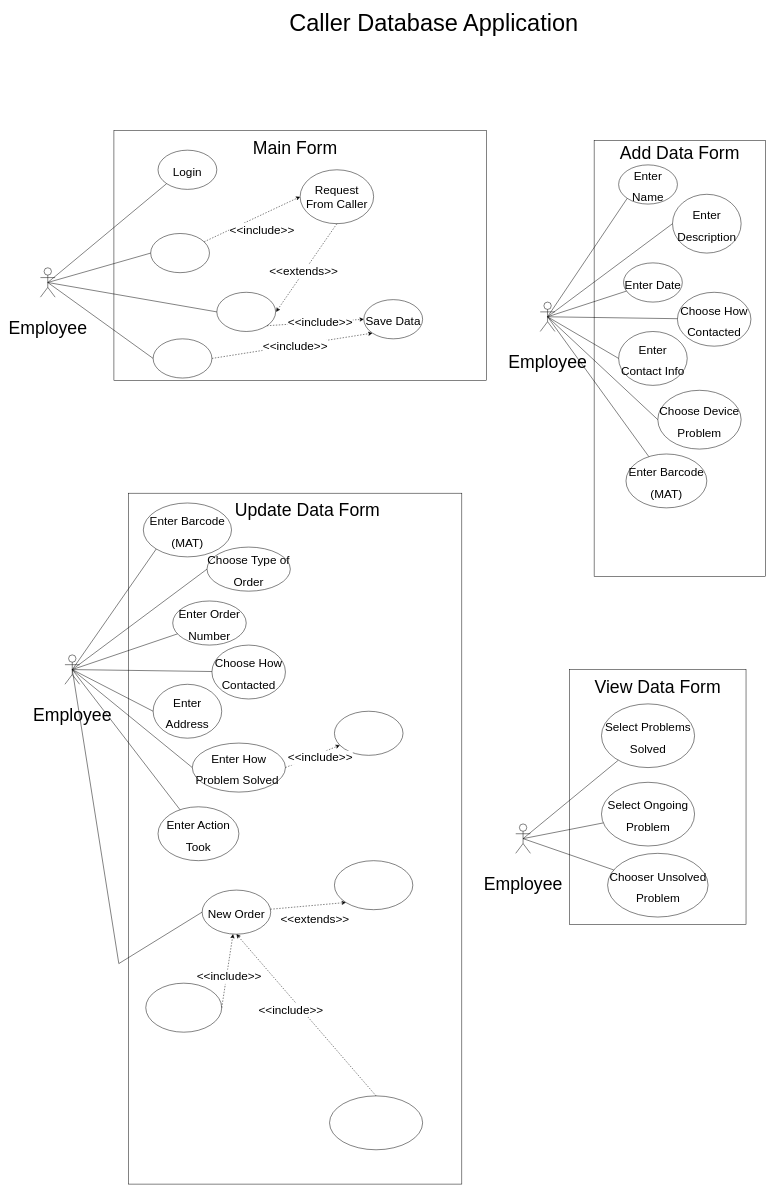
Image size: 774x1193. Some labels were removed from this diagram. The box of each missing label's shape, as (x1, y1, x2, y2) in pixels:
Add Data: (150, 233, 209, 273)
Enter Date Sent: (145, 983, 222, 1032)
Enter Return Number: (329, 1095, 423, 1150)
New Barcode (RMA): (334, 860, 413, 910)
Update Data: (216, 292, 276, 331)
Verify Problem: (334, 711, 403, 755)
View Data: (153, 338, 212, 378)
